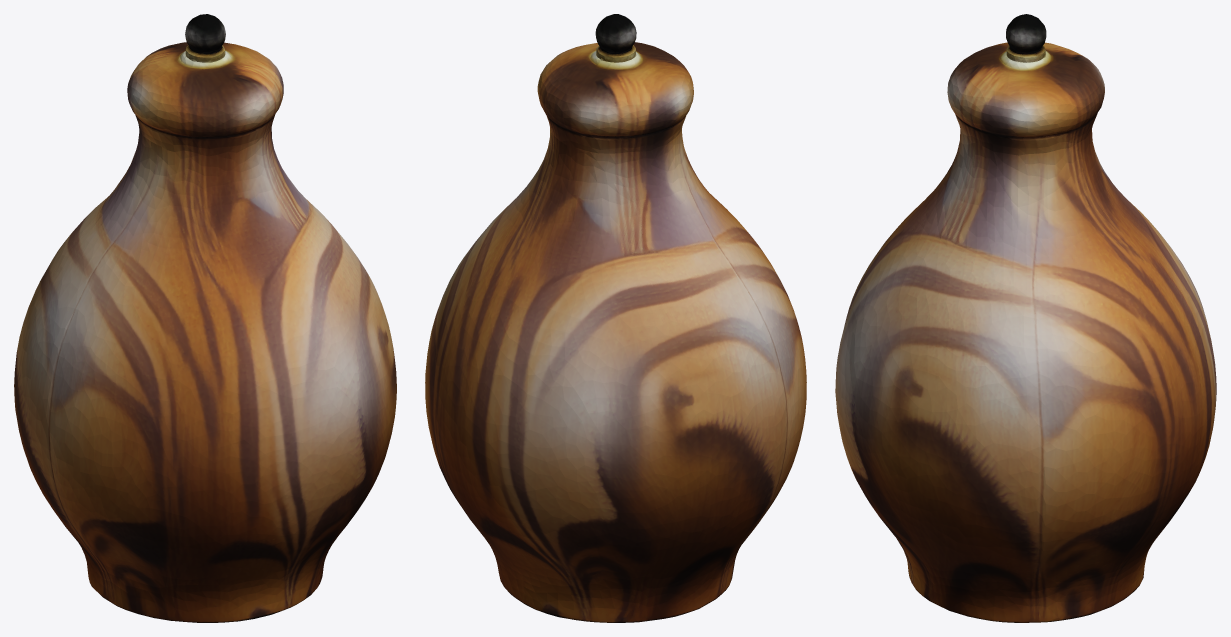
The model's file is seed-shell-shaker-rustic.jpeg.glb.
The picture shows the model from 3 angles, left to right: view 1: azimuth 30°, elevation 25°; view 2: azimuth 150°, elevation 25°; view 3: azimuth 270°, elevation 25°; orthographic projection.
Visible parts, largest first — view 1: world; view 2: world; view 3: world.
Boxes of the visible parts, x1,y1,x2,y2 form: world: [14, 14, 396, 622]; world: [425, 14, 806, 622]; world: [835, 14, 1216, 622].
Size of the model in its own units: 0.6192 by 1 by 0.6199.
Materials: 1 (1 with a texture image).
